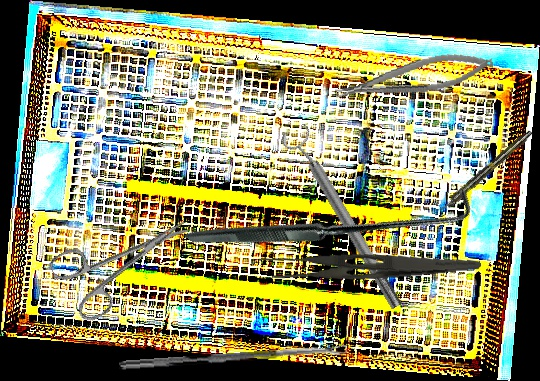Dressing Forceps: (258, 235, 482, 290)
Fixation Ring: (278, 121, 411, 316)
Handpiece: (437, 127, 535, 215)
Hook Surgical: (183, 73, 479, 364)
Iris Scissors: (46, 195, 206, 327)
Needle Holder: (332, 46, 496, 107)
Surgical Spoon: (118, 345, 348, 371)
